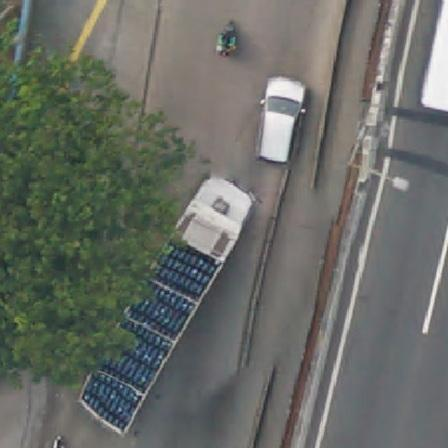Car: (263, 75, 305, 163)
Motorcycle: (211, 18, 247, 57)
